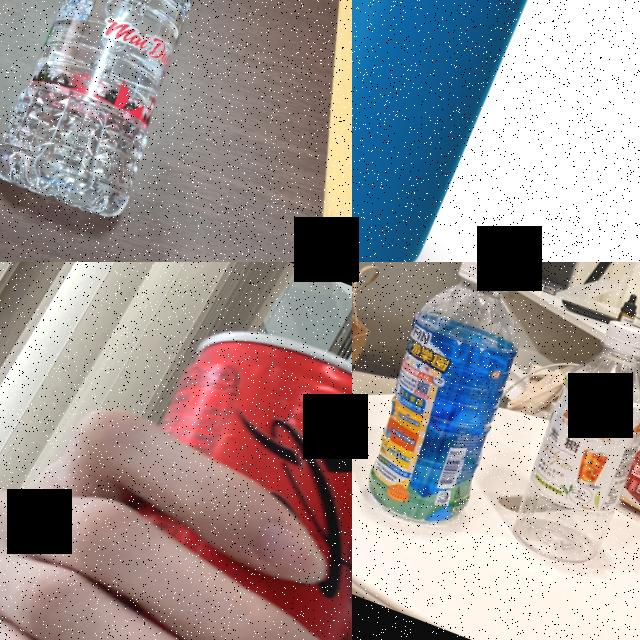bottle: (352, 262, 553, 543), (0, 0, 242, 226), (494, 307, 640, 582)
can: (0, 290, 352, 640), (352, 0, 567, 262)
